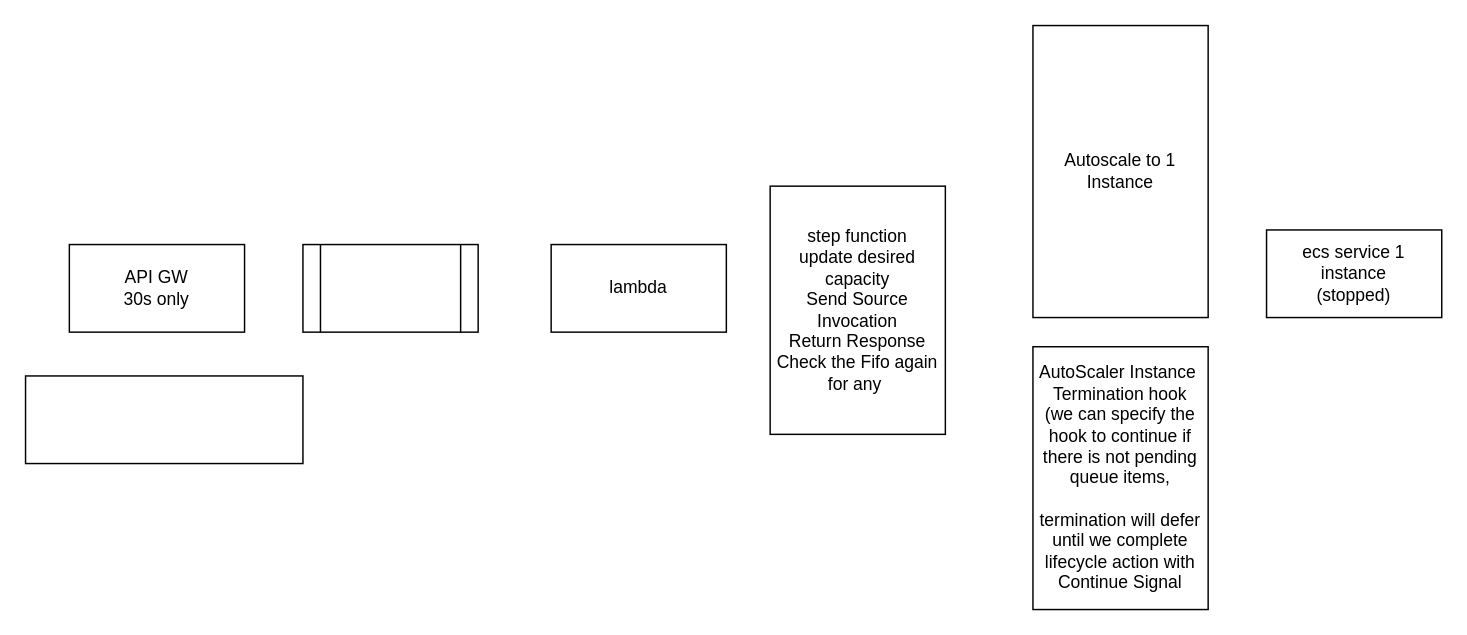
Some shapes in this 1467 by 635 pixel diagram are drawn without their labels. The shapes that lost their labels are listed below. From the top down, each one's centre as x and y in pixels, then its label:
At pixel 389 287: "Queue.Fifo".
At pixel 163 419: "web socket web browser supported?".
